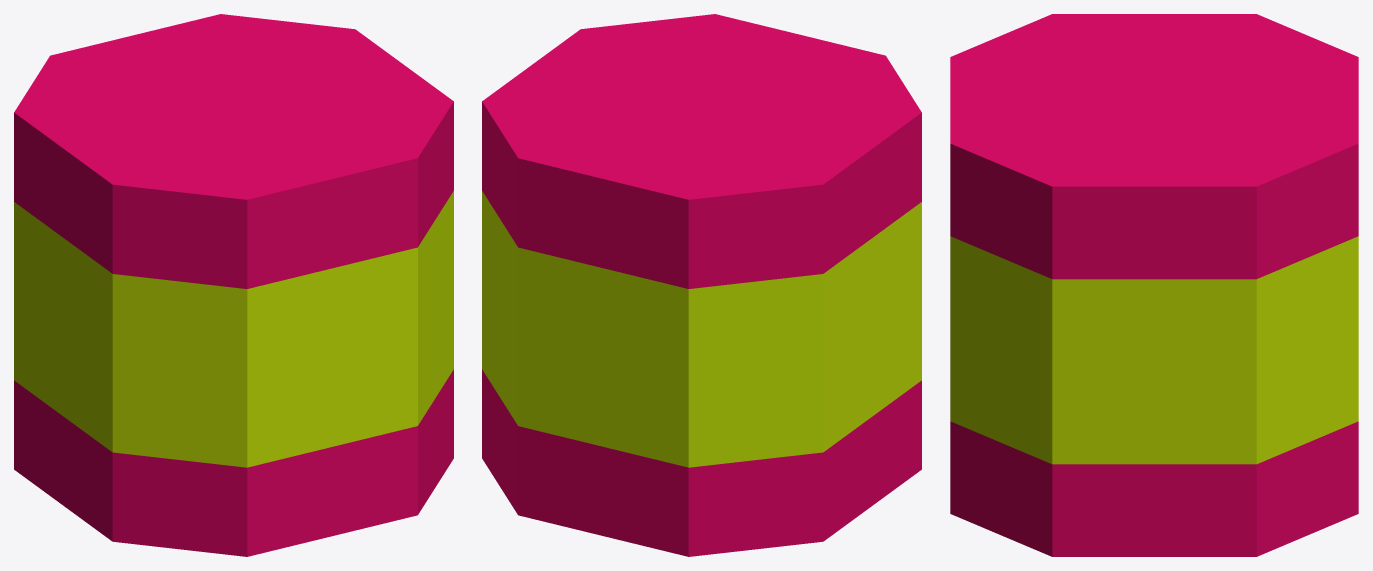
Rendered from jar_2.fbx.
3 renders of one model, left to right at view 1: azimuth 30°, elevation 25°; view 2: azimuth 150°, elevation 25°; view 3: azimuth 270°, elevation 25°, orthographic. The views are drawn at different scales.
Parts seen in each view (by area): view 1: jar_2; view 2: jar_2; view 3: jar_2.
Part boxes in pixels (x1,y1,x2,y2): jar_2: [14, 14, 453, 556]; jar_2: [482, 14, 921, 556]; jar_2: [950, 14, 1358, 556].
Size of the model in its own units: 48.43 by 48.43 by 48.43.
